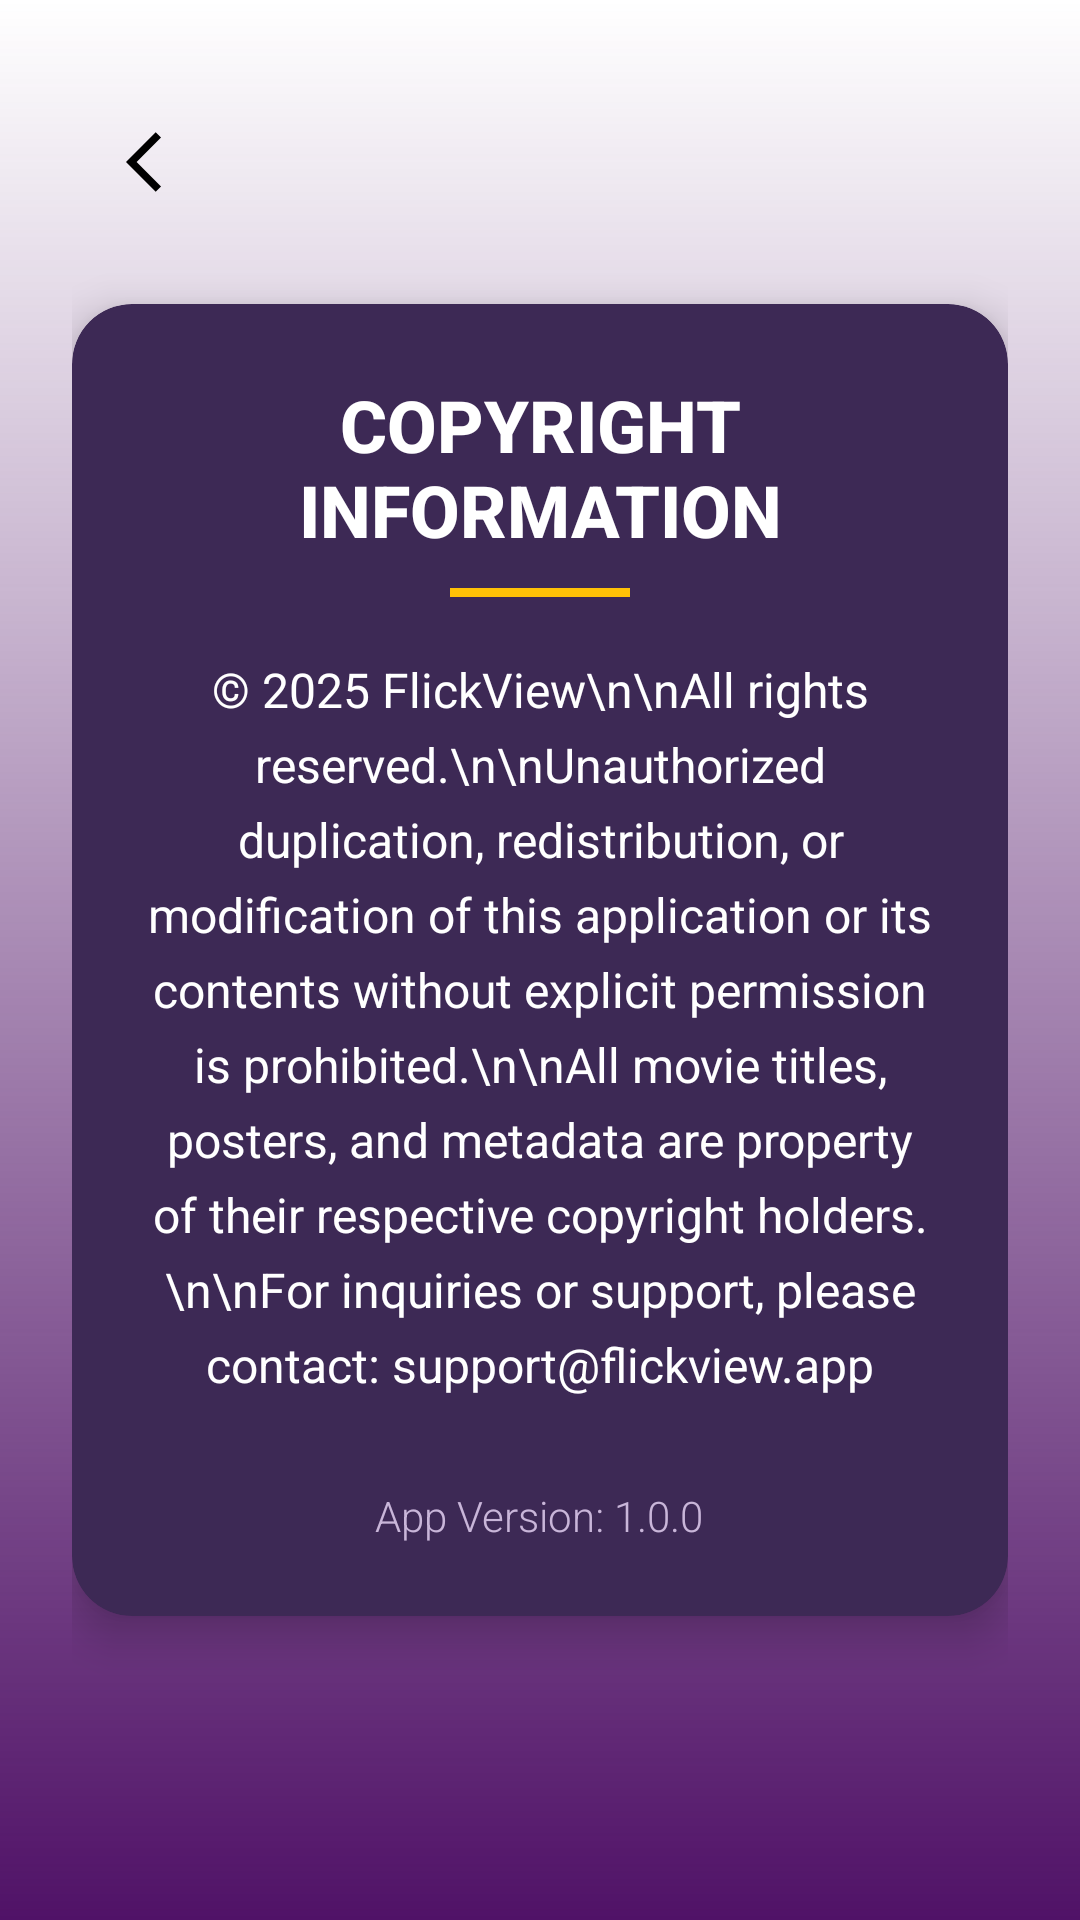

Locate icon controls on the screen. Image size 1080x1920, boxes as (x1, y1, x2, y2).
Back: (126, 132, 161, 192)
